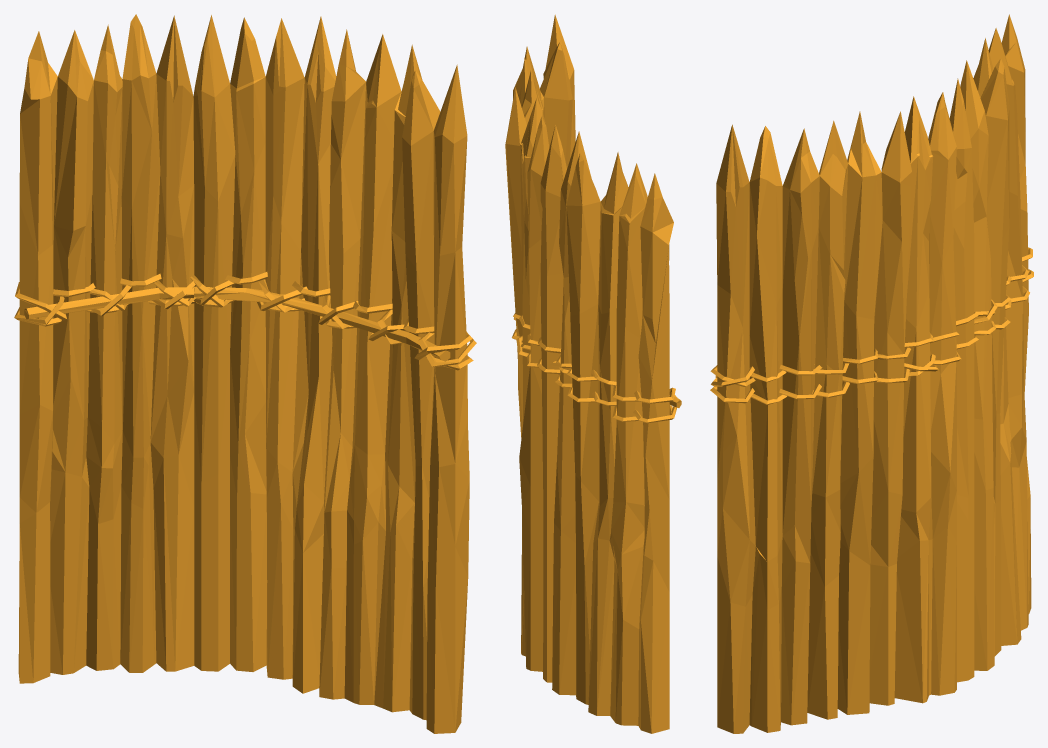
File: SM_Palisade_Corner_Round_3x3_Convex_A.fbx
3 renders of one model, left to right at view 1: azimuth 30°, elevation 25°; view 2: azimuth 150°, elevation 25°; view 3: azimuth 270°, elevation 25°, orthographic. The views are drawn at different scales.
Parts seen in each view (by area): view 1: palisade-corner-round-3x3-convex-a; view 2: palisade-corner-round-3x3-convex-a; view 3: palisade-corner-round-3x3-convex-a.
Part boxes in pixels (x1=…): palisade-corner-round-3x3-convex-a: x1=14, y1=14, x2=476, y2=733; palisade-corner-round-3x3-convex-a: x1=505, y1=14, x2=681, y2=733; palisade-corner-round-3x3-convex-a: x1=710, y1=14, x2=1033, y2=733.
Bounding box in the file's own units: 3.32 × 6.85 × 3.31.
